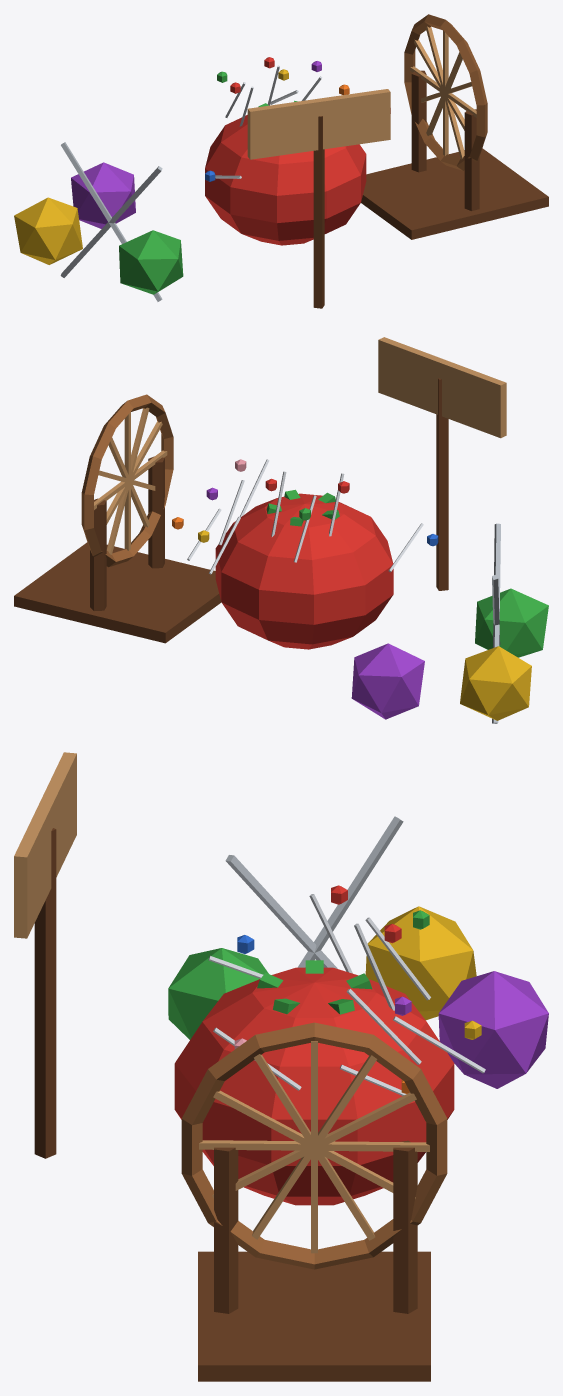
The model's file is knittingCorner.fbx.
3 renders of one model, top to bottom at view 1: azimuth 30°, elevation 25°; view 2: azimuth 150°, elevation 25°; view 3: azimuth 270°, elevation 25°, orthographic. The views are drawn at different scales.
Parts seen in each view (by area): view 1: knittingCorner; view 2: knittingCorner; view 3: knittingCorner.
Part boxes in pixels (<box>): knittingCorner: <box>14,14,548,308</box>; knittingCorner: <box>14,337,548,723</box>; knittingCorner: <box>14,752,548,1381</box>.
Size of the model in its own units: 4.05 by 1.81 by 2.39.
